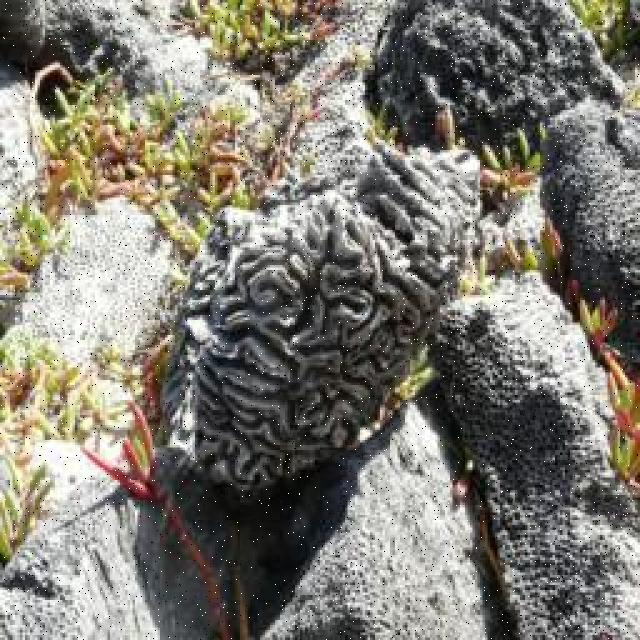aquatic plants: (0, 62, 257, 285), (81, 403, 232, 637), (0, 340, 138, 458), (576, 298, 638, 478), (169, 0, 341, 63), (0, 455, 56, 568), (484, 130, 542, 202)
reefs: (152, 139, 486, 493), (361, 0, 630, 166)
sea-floor: (427, 270, 638, 638), (537, 91, 638, 365)
